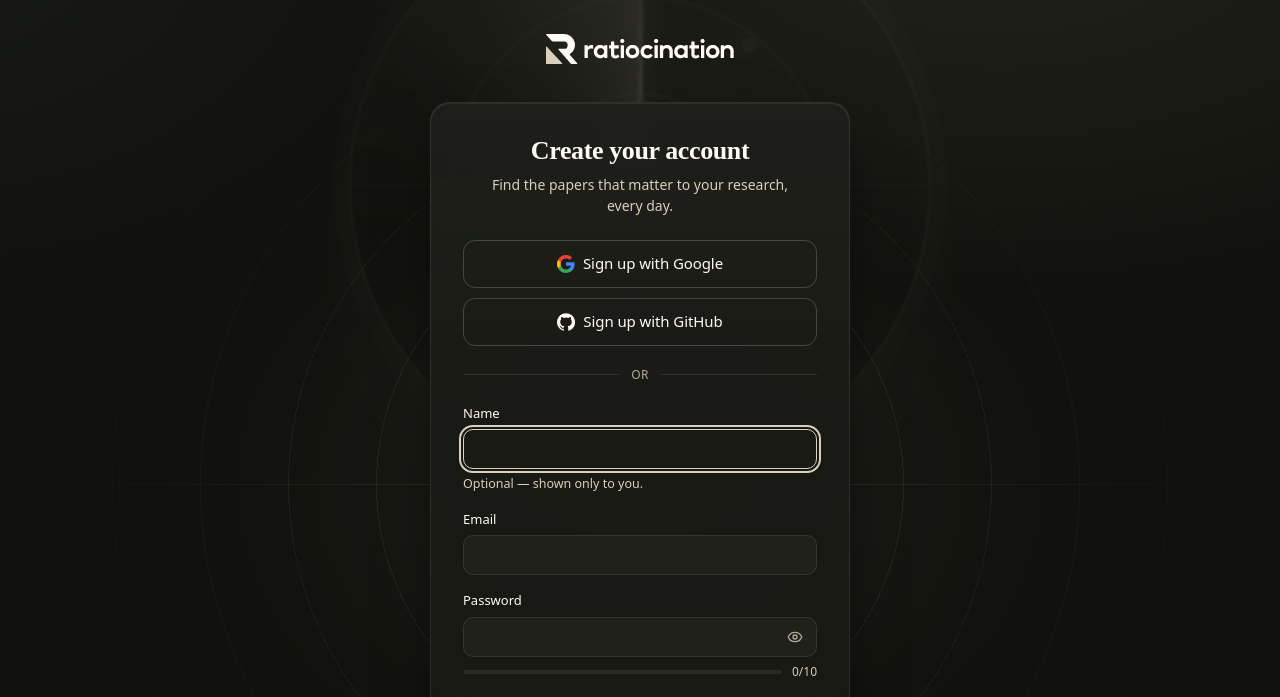
Scenario: SignUpPage with email verification › shows “Check your inbox” instead of signing in
expect the heading "Create your account" is shown: met, box [531,136,749,165]
Type "Ada@example.org" into the field labelled "Email" at [640, 555], box [463,535,817,575]
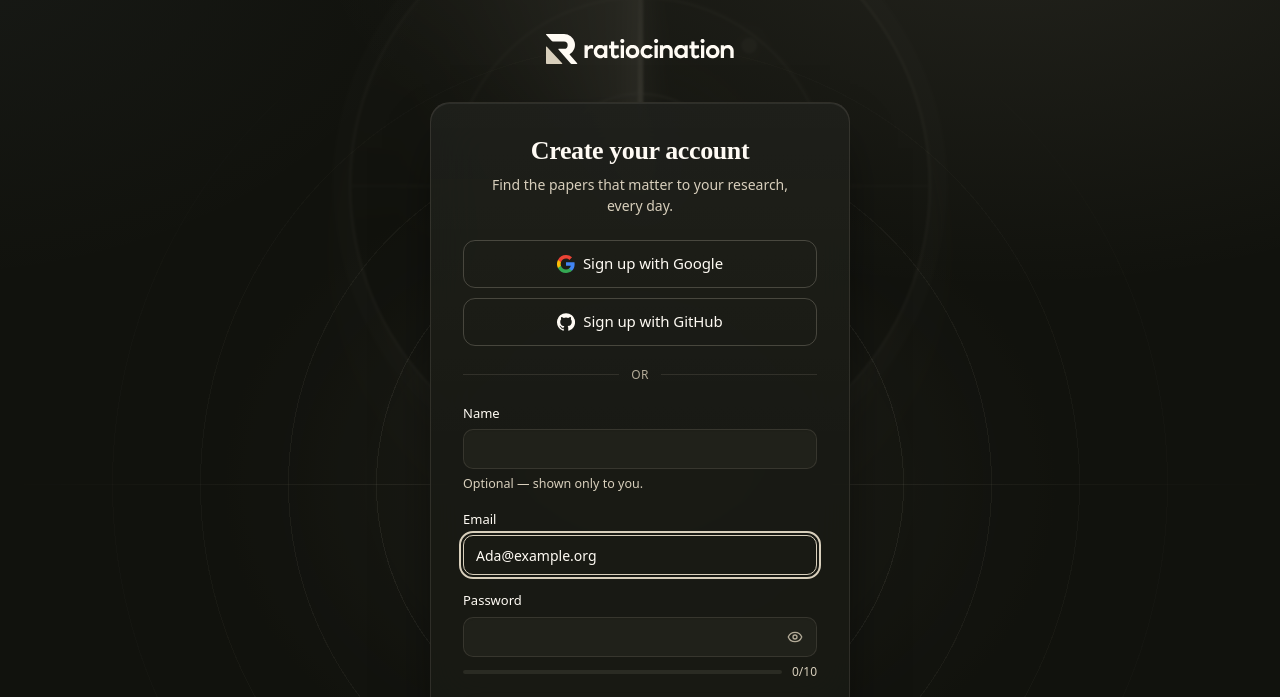
Type "long enough password" into the password field labelled "Password" at [640, 637], box [463,617,817,657]
(page scrolled)
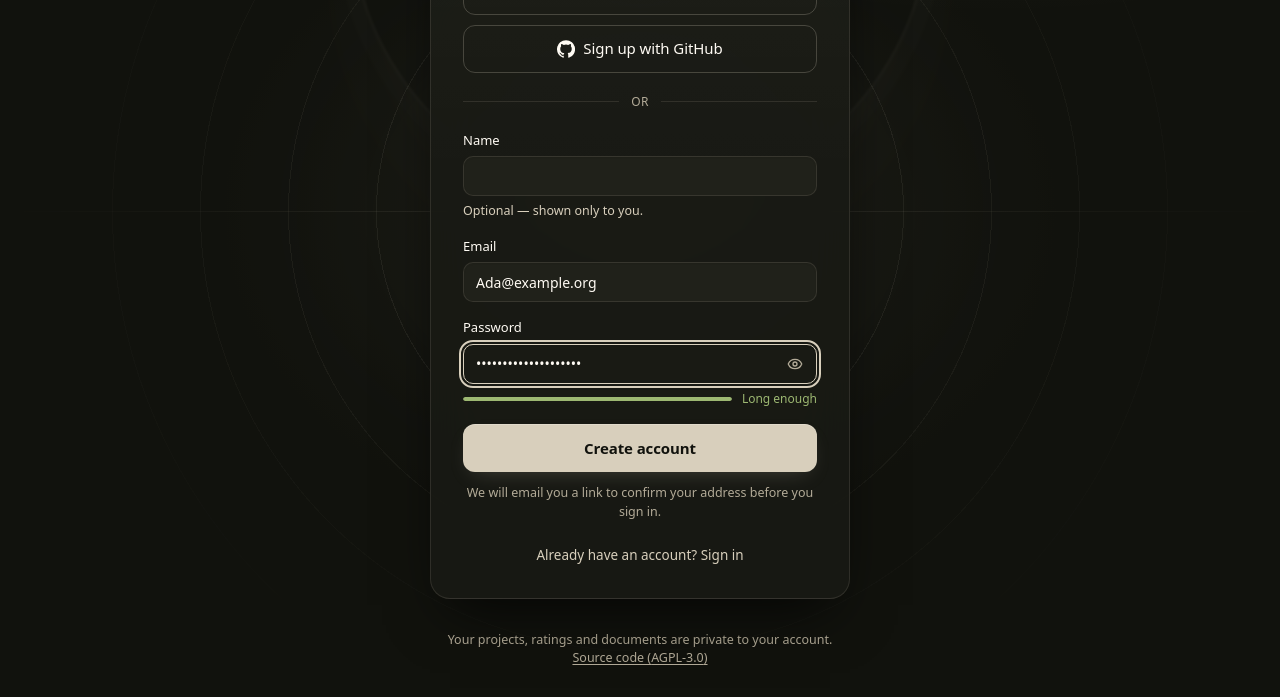
Click the button "Create account" at [640, 448], box [463,424,817,472]
(page scrolled)
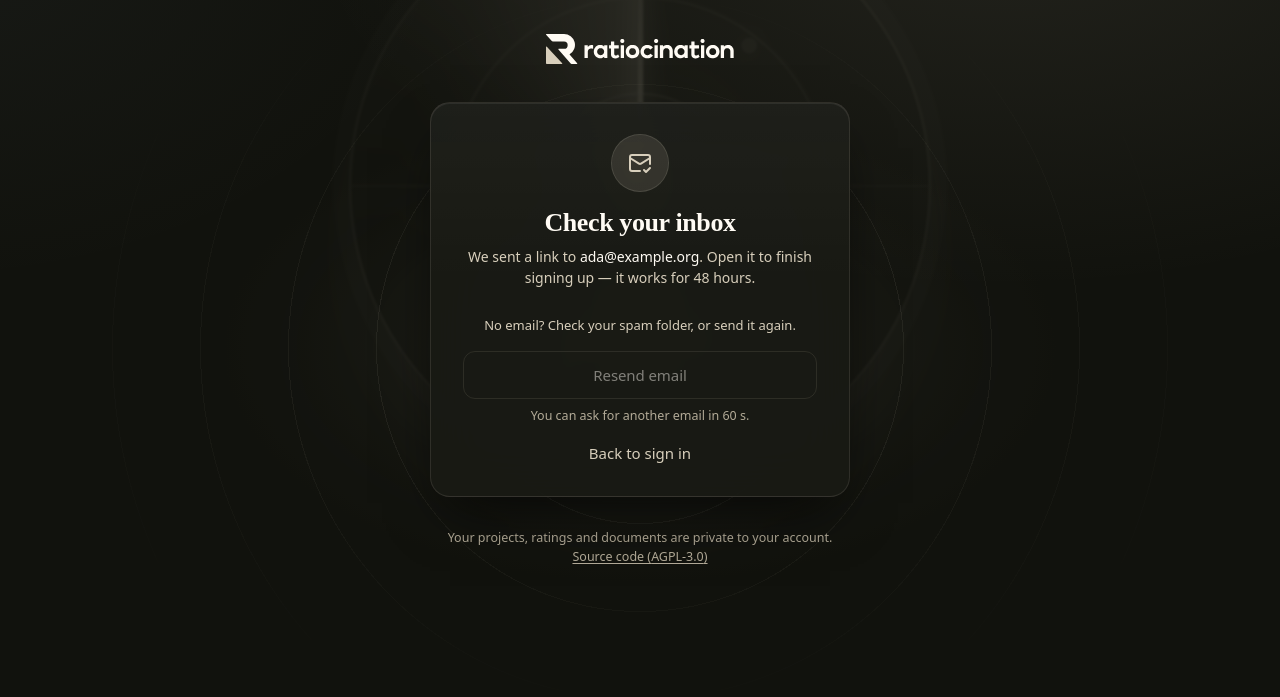
expect the heading "Check your inbox" is shown: met, box [544,208,736,237]
expect the text "ada@example.org" is shown: met, box [580,246,699,266]
expect the button "Resend email" is disabled: met, box [463,351,817,399]
